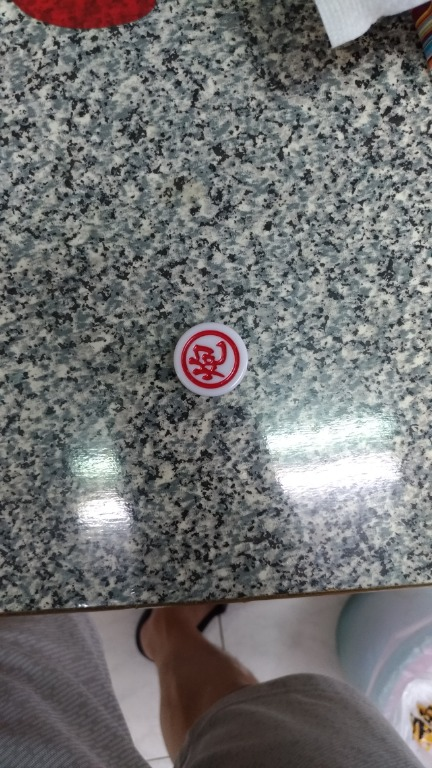r-cannon: (167, 314, 271, 404)
